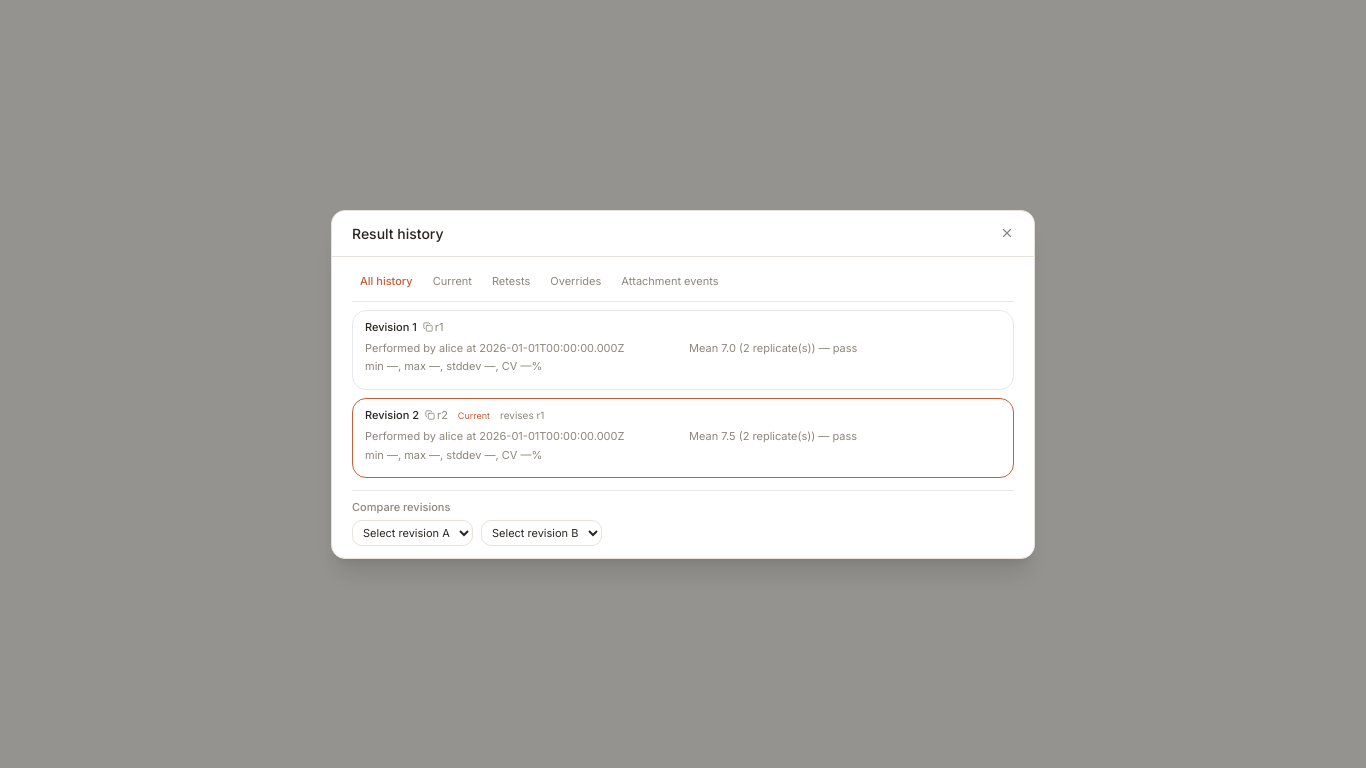
it: ResultHistoryBrowser — revision comparison › highlights a changed mean between two selected revisions without inferring why
Select "Revision 1 (r1)" in the 1st dropdown. click: (412, 532)
box: [352,520,473,546]
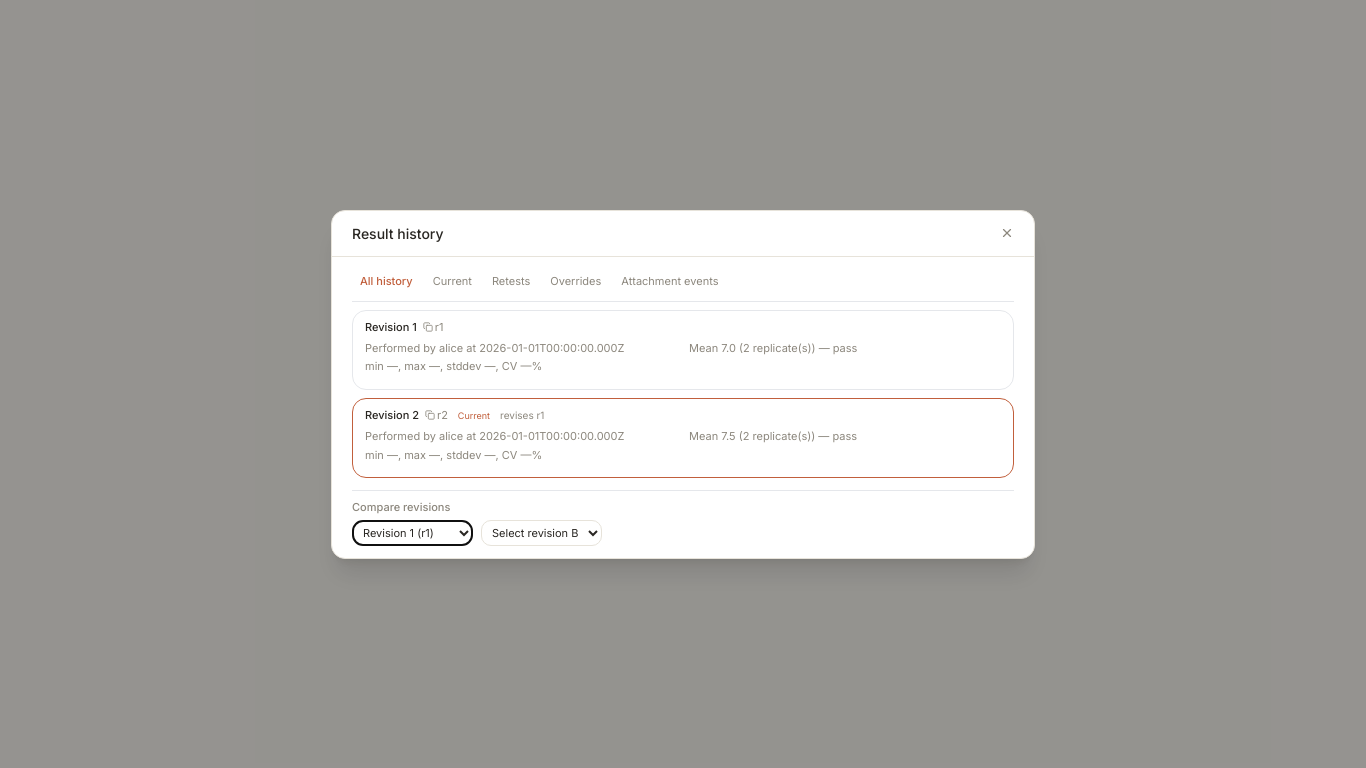
Select "Revision 2 (r2)" in the 2nd dropdown. click: (542, 532)
box: [481,520,602,546]
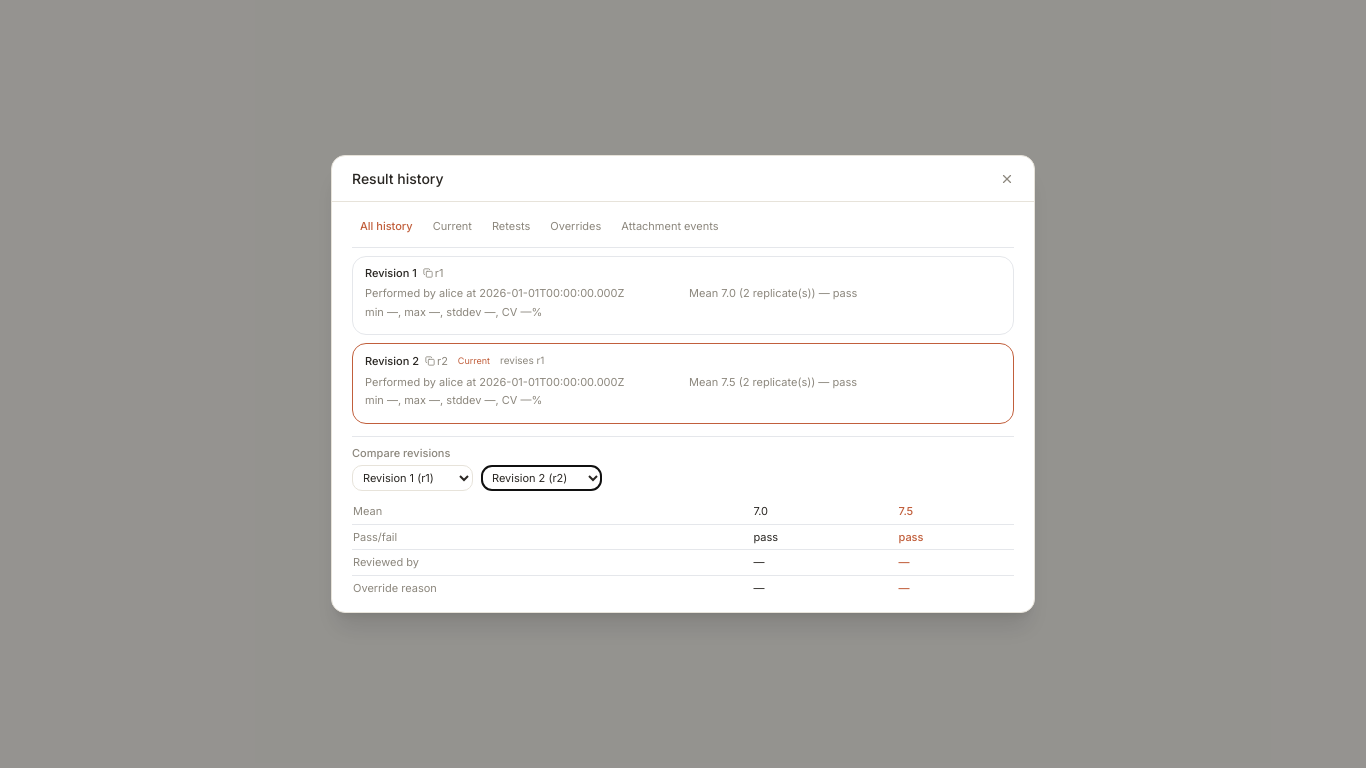
Result: the text "7.0" is shown at [752,499,898,524]
Result: the text "7.5" is shown at [898,499,1014,524]
